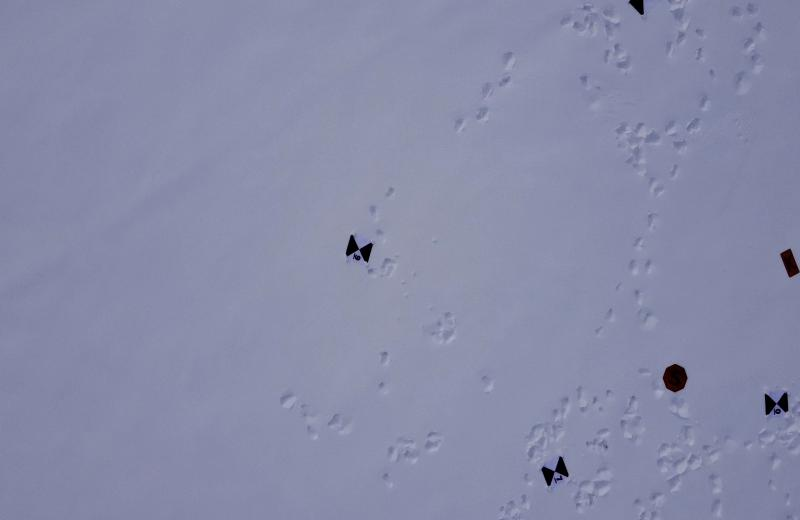Octagon: (659, 361, 689, 395)
Rectangle: (774, 243, 800, 281)
